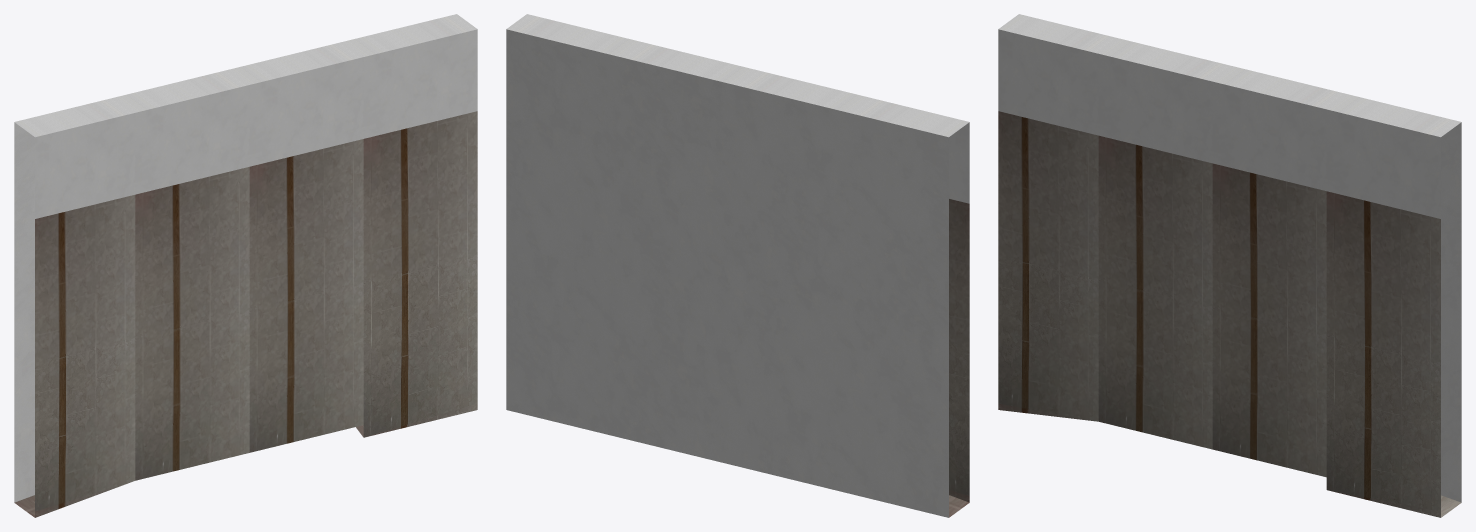
File: KitchenWall_Back.fbx
The picture shows the model from 3 angles, left to right: view 1: azimuth 30°, elevation 25°; view 2: azimuth 150°, elevation 25°; view 3: azimuth 330°, elevation 25°; orthographic projection.
Parts seen in each view (by area): view 1: Kitchen_Wall1; view 2: Kitchen_Wall1; view 3: Kitchen_Wall1.
Part boxes in pixels (left/top/right/bottom): Kitchen_Wall1: left=14, top=14, right=477, bottom=517; Kitchen_Wall1: left=506, top=14, right=969, bottom=517; Kitchen_Wall1: left=998, top=14, right=1461, bottom=517.
Size of the model in its own units: 453 by 372 by 37.
2 materials, 2 textured.
